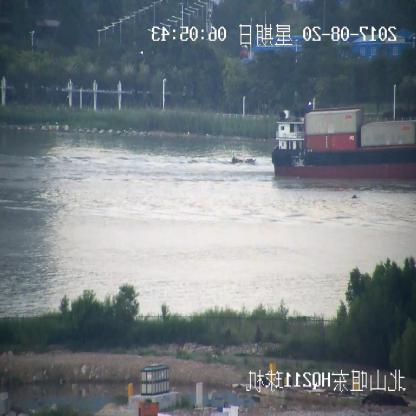Container Ship: (270, 109, 416, 181)
